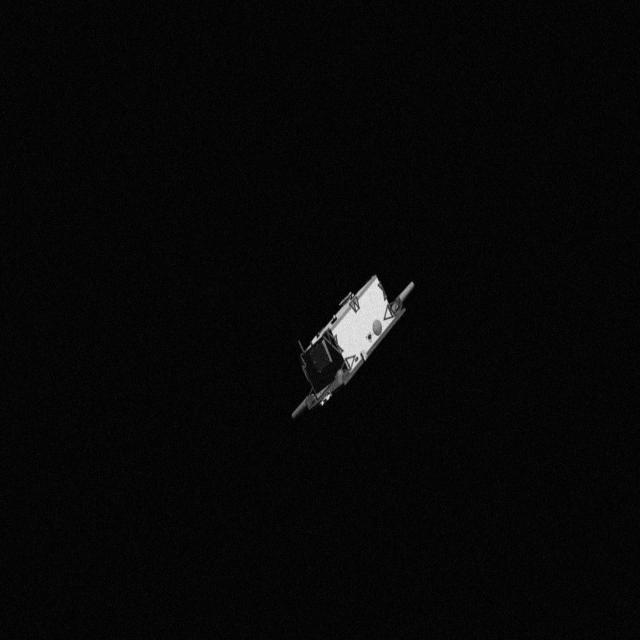satellite: (288, 266, 428, 424)
